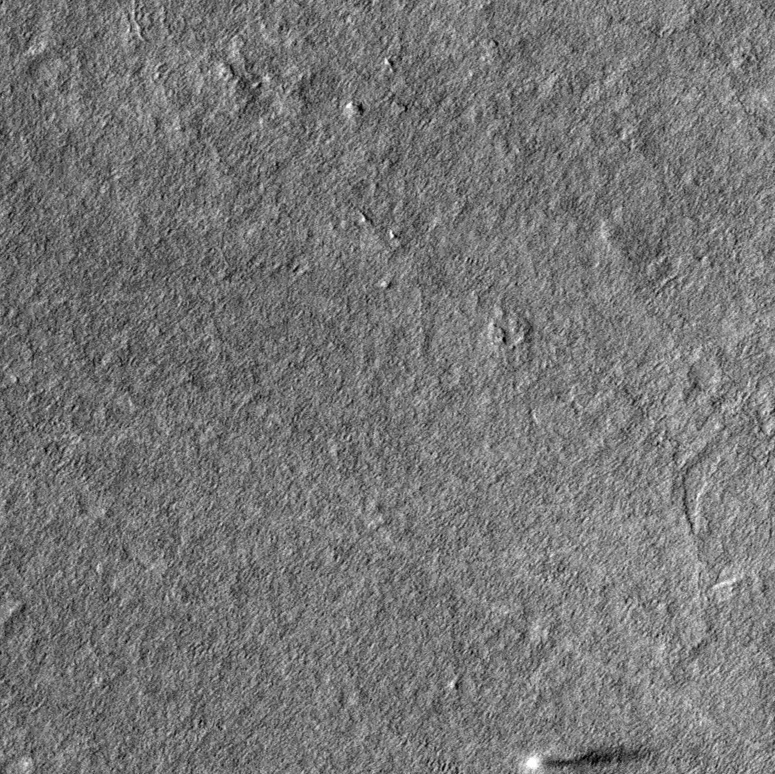dust_devil: (522, 743, 656, 774)
